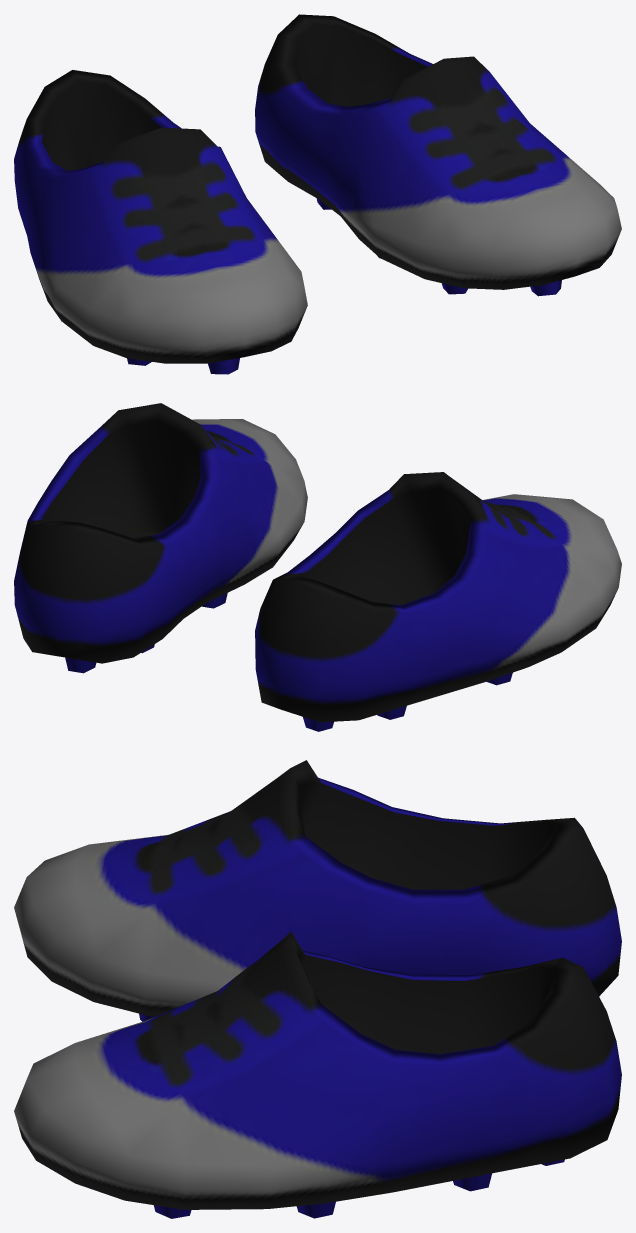
Rendered from ShoesLowcutSpike0.glb.
3 renders of one model, top to bottom at view 1: azimuth 30°, elevation 25°; view 2: azimuth 150°, elevation 25°; view 3: azimuth 270°, elevation 25°, orthographic. The views are drawn at different scales.
Visible parts, largest first — view 1: Body__mShoes; view 2: Body__mShoes; view 3: Body__mShoes.
Part boxes in pixels (x1,y1,x2,y2): Body__mShoes: [14, 14, 621, 374]; Body__mShoes: [14, 403, 621, 731]; Body__mShoes: [14, 760, 621, 1218].
Bounding box in the file's own units: 3.32 × 1.12 × 2.68.
1 material, 1 textured.
